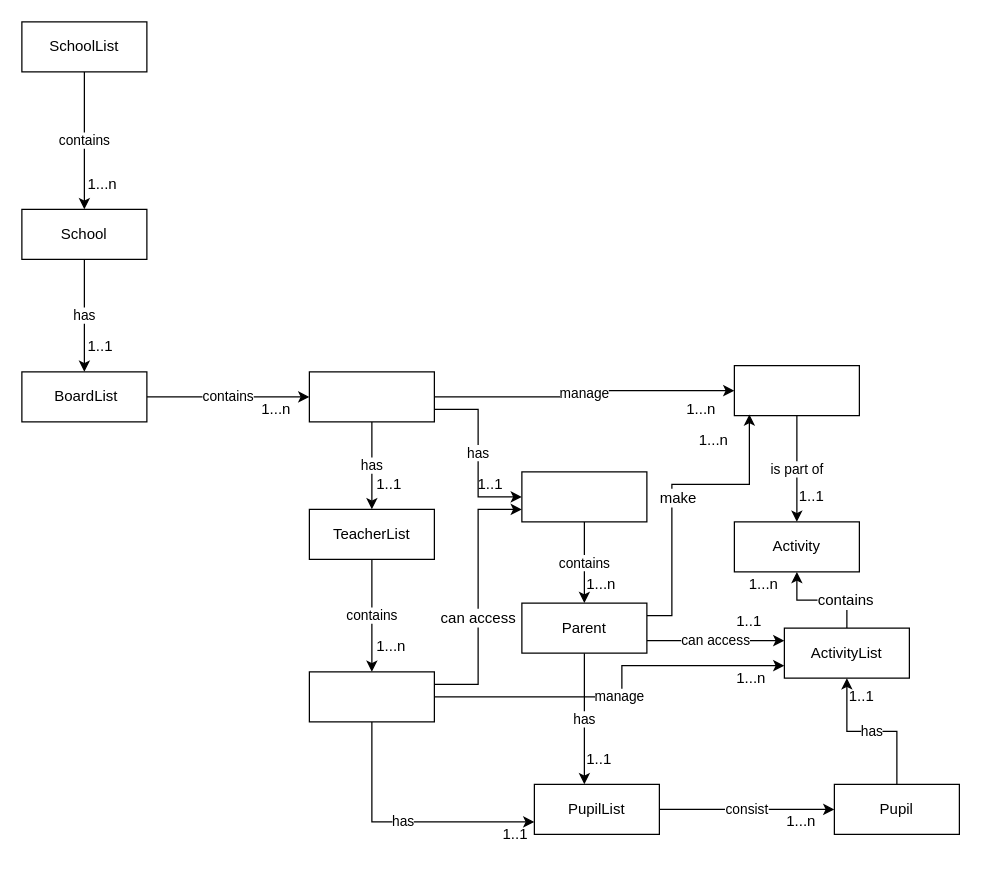
Image size: 981x871. Some labels were removed from this diagram. The shapes that lost their labels are listed below. From the top down, each one's centre as x and y in pixels, then its label:
At (371,396): "Board".
At (796,390): "Payment".
At (584,496): "ParentList".
At (371,696): "Teacher".
